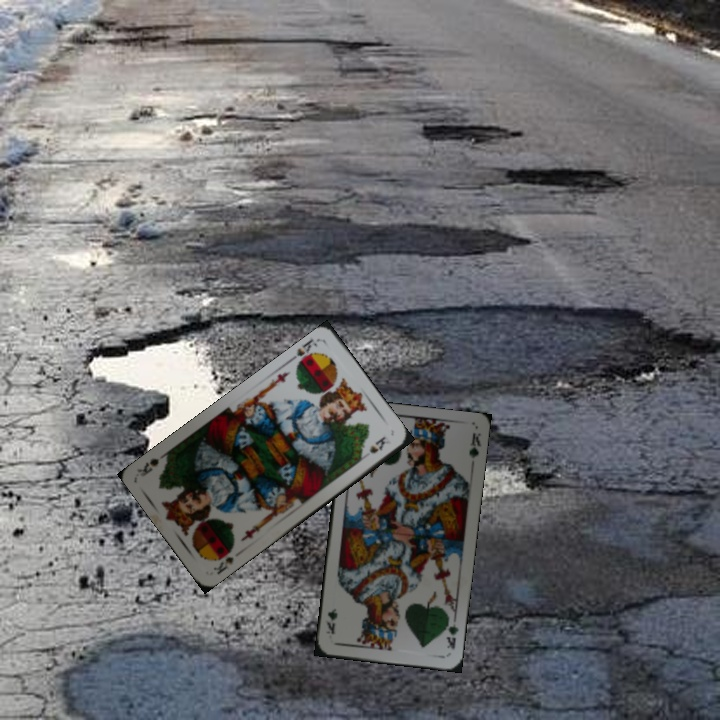GK: (442, 614, 461, 651)
SK: (286, 335, 321, 370), (209, 553, 236, 577)
